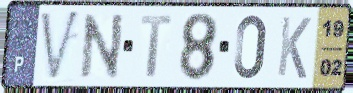0: (232, 13, 269, 82)
8: (176, 11, 220, 84)
K: (275, 14, 313, 82)
N: (79, 12, 127, 81)
T: (139, 13, 174, 80)
V: (38, 7, 83, 84)
